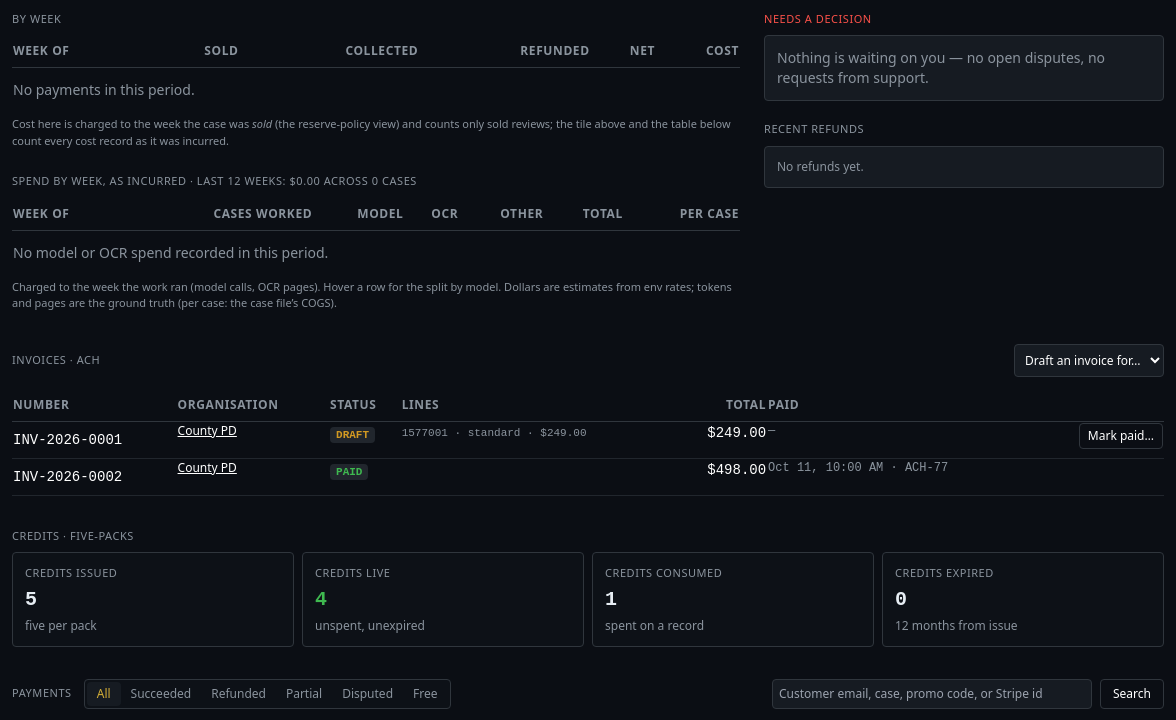
Test case: Money: per-rung tiles, invoices and credits (G5) › drafts an invoice from the selected counsel cases of one organisation
This screenshot has width=1176, height=720.
Later steps or results of the test are not shown.
(page scrolled)
Expected: the table with test id "invoices-table" is shown, [12,388,1164,496]
Select "County PD" in the dropdown named "Organisation to invoice" at x=1089, y=360, box [1014,344,1164,376]
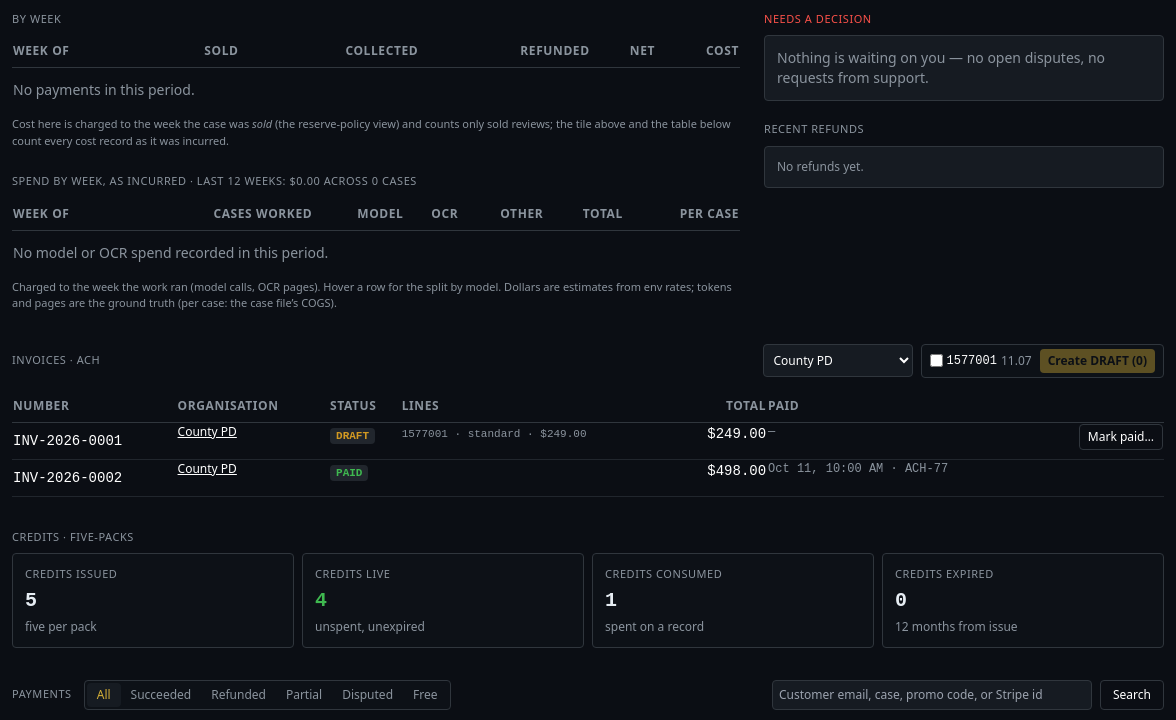
Now the element with test id "invoice-draft" shows "1577001", box [946,354,997,368]
